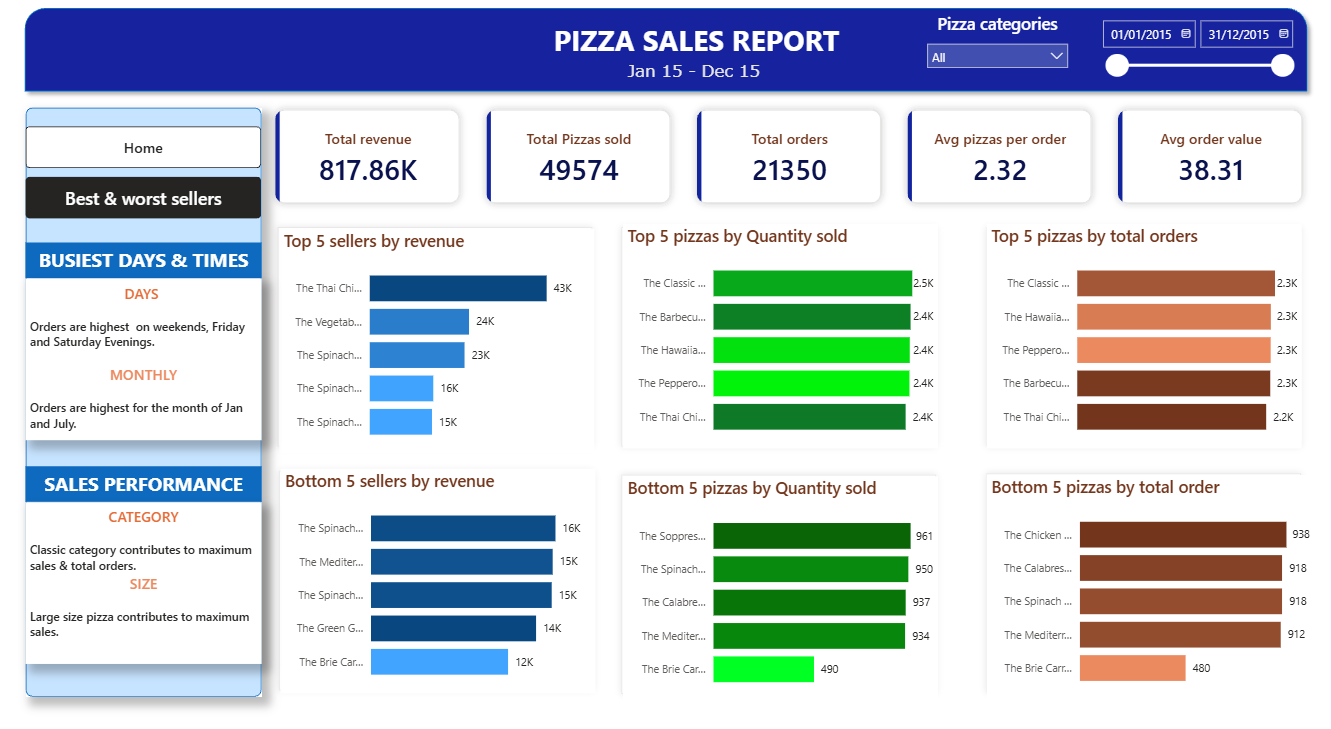

Layout of this report page (visuals, bound fields, positions):
{"tool":"powerbi","page":{"name":"Best & worst sellers","canvas":[1500,820],"ordinal":1},"visuals":[{"type":"cardVisual","fields":{"Data":["pizzadb pizza_sales.total_revenue","pizzadb pizza_sales.total_pizza_sold","pizzadb pizza_sales.total_orders","pizzadb pizza_sales.avg_pizzas_per_order","pizzadb pizza_sales.avg_order_value"]},"box":[284.3,95.7,1215.7,161.4],"z":0},{"type":"shape","box":[21.3,0,1460.7,111.9],"z":1000},{"type":"textbox","box":[612.9,18.6,345.7,54.3],"z":2000},{"type":"textbox","box":[702.9,62.9,175.7,35.7],"z":3000},{"type":"shape","box":[307.1,247.1,370,262.9],"z":4000},{"type":"slicer","title":"Pizza categories","fields":{"Values":["pizzadb pizza_sales.pizza_category"]},"box":[1034.3,14.3,178.6,84.3],"z":5000},{"type":"slicer","title":"Pizza categories","fields":{"Values":["pizzadb pizza_sales.order_dates"]},"box":[1230,12.9,235.7,84.3],"z":6000},{"type":"shape","box":[692.9,247.1,370,262.9],"z":7000},{"type":"shape","box":[1104.3,247.1,370,262.9],"z":8000},{"type":"shape","box":[692.9,525.7,370,262.9],"z":9000},{"type":"shape","box":[1104.3,524.3,370,262.9],"z":10000},{"type":"shape","box":[308.6,521.4,370,262.9],"z":11000},{"type":"clusteredBarChart","title":"Top 5 sellers by revenue","fields":{"Category":["pizzadb pizza_sales.pizza_name"],"Y":["pizzadb pizza_sales.Total revenue"]},"box":[315.7,257.1,354.3,252.9],"z":12000},{"type":"clusteredBarChart","title":"Bottom 5 sellers by revenue","fields":{"Category":["pizzadb pizza_sales.pizza_name"],"Y":["pizzadb pizza_sales.Total revenue"]},"box":[317.1,527.1,354.3,252.9],"z":13000},{"type":"clusteredBarChart","title":"Top 5 pizzas by Quantity sold","fields":{"Category":["pizzadb pizza_sales.pizza_name"],"Y":["pizzadb pizza_sales.Total Pizzas sold"]},"box":[702.9,251.4,354.3,252.9],"z":14000},{"type":"textbox","box":[31.4,273.3,265.7,40],"z":15000,"group":"g1"},{"type":"textbox","box":[31.4,524.7,265.7,40],"z":15000,"group":"g2"},{"type":"clusteredBarChart","title":"Bottom 5 pizzas by Quantity sold","fields":{"Category":["pizzadb pizza_sales.pizza_name"],"Y":["pizzadb pizza_sales.Total Pizzas sold"]},"box":[702.9,535.7,354.3,252.9],"z":15000},{"type":"clusteredBarChart","title":"Top 5 pizzas by total orders","fields":{"Category":["pizzadb pizza_sales.pizza_name"],"Y":["pizzadb pizza_sales.Total orders"]},"box":[1112.9,251.4,354.3,252.9],"z":16000},{"type":"textbox","box":[31.4,314.7,265.7,181.4],"z":16000,"group":"g1"},{"type":"textbox","box":[31.4,566.1,265.7,181.4],"z":16000,"group":"g2"},{"type":"clusteredBarChart","title":"Bottom 5 pizzas by total order","fields":{"Category":["pizzadb pizza_sales.pizza_name"],"Y":["pizzadb pizza_sales.Total orders"]},"box":[1112.9,534.3,368.6,252.9],"z":17000},{"type":"shape","box":[31.4,121.4,265.7,662.9],"z":18000},{"type":"group","id":"g1","title":"Group 1","box":[31.4,273.3,265.7,222.9],"z":19000},{"type":"group","id":"g2","title":"Group 1","box":[31.4,524.7,265.7,222.9],"z":20000},{"type":"pageNavigator","box":[31.4,141.4,265.7,105.7],"z":21000}]}

Visuals, with their boxes in screenshot pixels (x1, y1, x2, y2), scaled from the page's 1500x820 canvas onto the 1331x729 screenshot:
cardVisual - pizzadb pizza_sales.total_revenue x pizzadb pizza_sales.total_pizza_sold: (x1=252, y1=85, x2=1330, y2=229)
shape: (x1=19, y1=0, x2=1315, y2=99)
textbox: (x1=544, y1=17, x2=851, y2=65)
textbox: (x1=624, y1=56, x2=780, y2=88)
shape: (x1=273, y1=220, x2=601, y2=453)
"Pizza categories" slicer: (x1=918, y1=13, x2=1076, y2=88)
"Pizza categories" slicer: (x1=1091, y1=11, x2=1301, y2=86)
shape: (x1=615, y1=220, x2=943, y2=453)
shape: (x1=980, y1=220, x2=1308, y2=453)
shape: (x1=615, y1=467, x2=943, y2=701)
shape: (x1=980, y1=466, x2=1308, y2=700)
shape: (x1=274, y1=464, x2=602, y2=697)
"Top 5 sellers by revenue" clusteredBarChart: (x1=280, y1=229, x2=595, y2=453)
"Bottom 5 sellers by revenue" clusteredBarChart: (x1=281, y1=469, x2=596, y2=693)
"Top 5 pizzas by Quantity sold" clusteredBarChart: (x1=624, y1=224, x2=938, y2=448)
textbox: (x1=28, y1=243, x2=264, y2=279)
textbox: (x1=28, y1=466, x2=264, y2=502)
"Bottom 5 pizzas by Quantity sold" clusteredBarChart: (x1=624, y1=476, x2=938, y2=701)
"Top 5 pizzas by total orders" clusteredBarChart: (x1=988, y1=224, x2=1302, y2=448)
textbox: (x1=28, y1=280, x2=264, y2=441)
textbox: (x1=28, y1=503, x2=264, y2=665)
"Bottom 5 pizzas by total order" clusteredBarChart: (x1=988, y1=475, x2=1315, y2=700)
shape: (x1=28, y1=108, x2=264, y2=697)
"Group 1" group: (x1=28, y1=243, x2=264, y2=441)
"Group 1" group: (x1=28, y1=466, x2=264, y2=665)
pageNavigator: (x1=28, y1=126, x2=264, y2=220)
